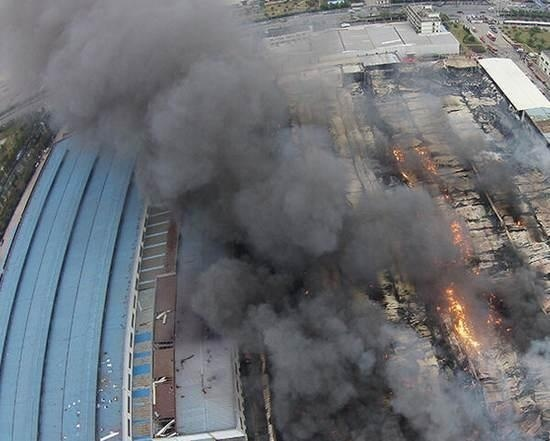fire: (440, 283, 482, 351), (447, 218, 475, 267)
